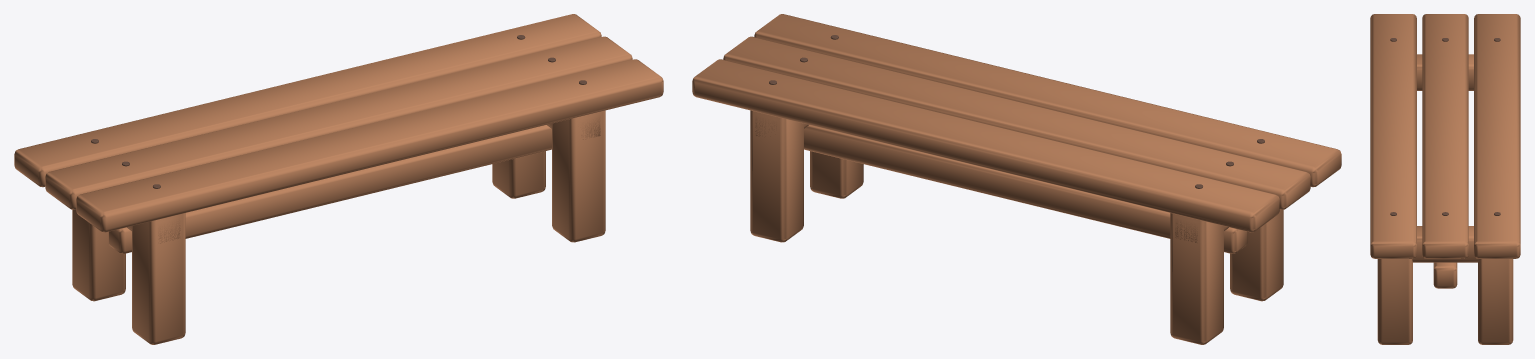
The model's file is bank-sirtsiz.glb.
3 renders of one model, left to right at view 1: azimuth 30°, elevation 25°; view 2: azimuth 150°, elevation 25°; view 3: azimuth 270°, elevation 25°, orthographic. The views are drawn at different scales.
Visible parts, largest first — view 1: 67P_BANK_SIRTSIZ_01_BODY; view 2: 67P_BANK_SIRTSIZ_01_BODY; view 3: 67P_BANK_SIRTSIZ_01_BODY, 67P_BANK_SIRTSIZ_01_FASTENERS.
Part boxes in pixels (<box>): 67P_BANK_SIRTSIZ_01_BODY: <box>14,14,663,344</box>; 67P_BANK_SIRTSIZ_01_BODY: <box>692,14,1341,344</box>; 67P_BANK_SIRTSIZ_01_BODY: <box>1370,14,1520,344</box>; 67P_BANK_SIRTSIZ_01_FASTENERS: <box>1390,38,1500,215</box>.
Size of the model in its own units: 1.85 by 0.476 by 0.51.
